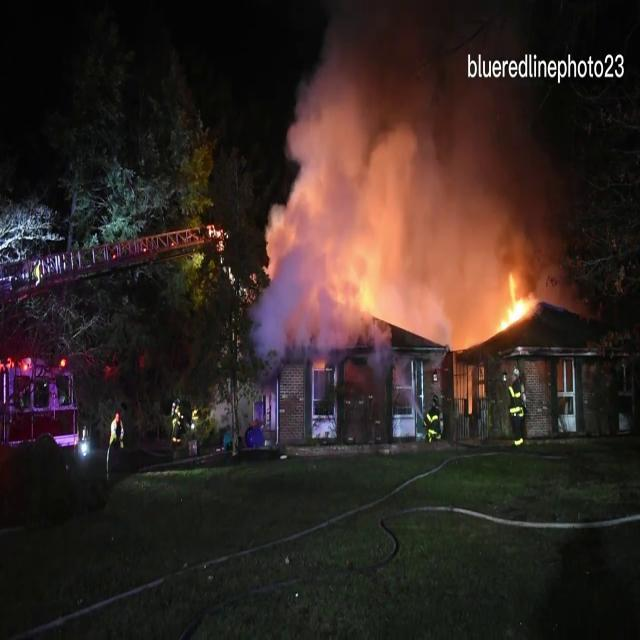Fire: (486, 267, 540, 338)
Smoke: (250, 0, 570, 334)
